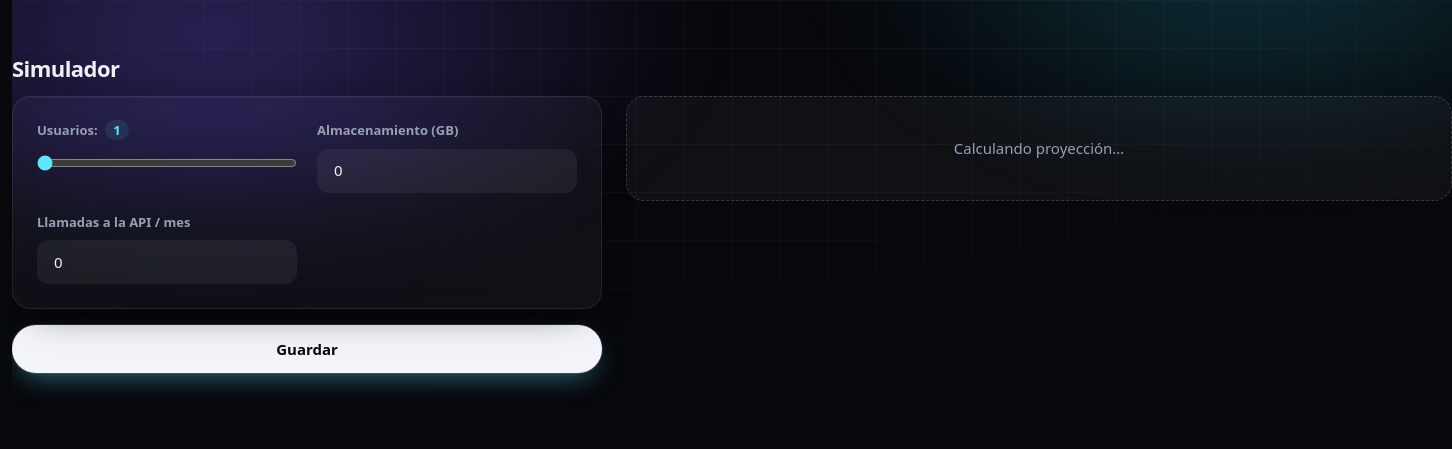
Test: Simulator: guardado › con un control no válido el botón está deshabilitado
Replace the text in the number field labelled "Almacenamiento (GB)" with "1.5": (447, 171) top-left (317, 149), bottom-right (577, 193)
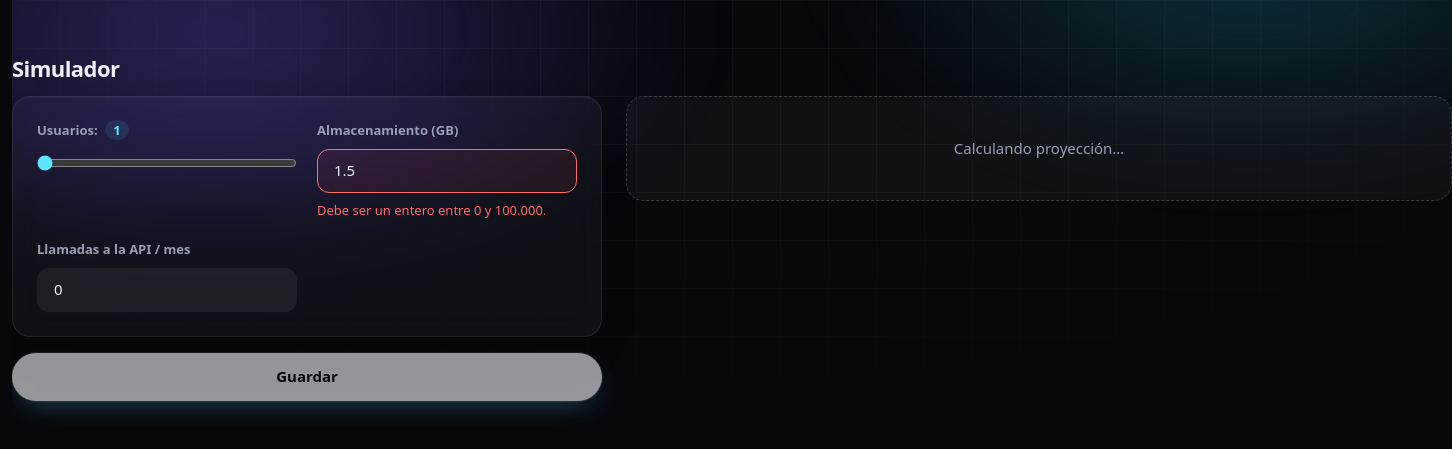
Expected: the button "Guardar" is disabled, top-left (12, 353), bottom-right (602, 401)
Replace the text in the number field labelled "Almacenamiento (GB)" with "10": (447, 171) top-left (317, 149), bottom-right (577, 193)
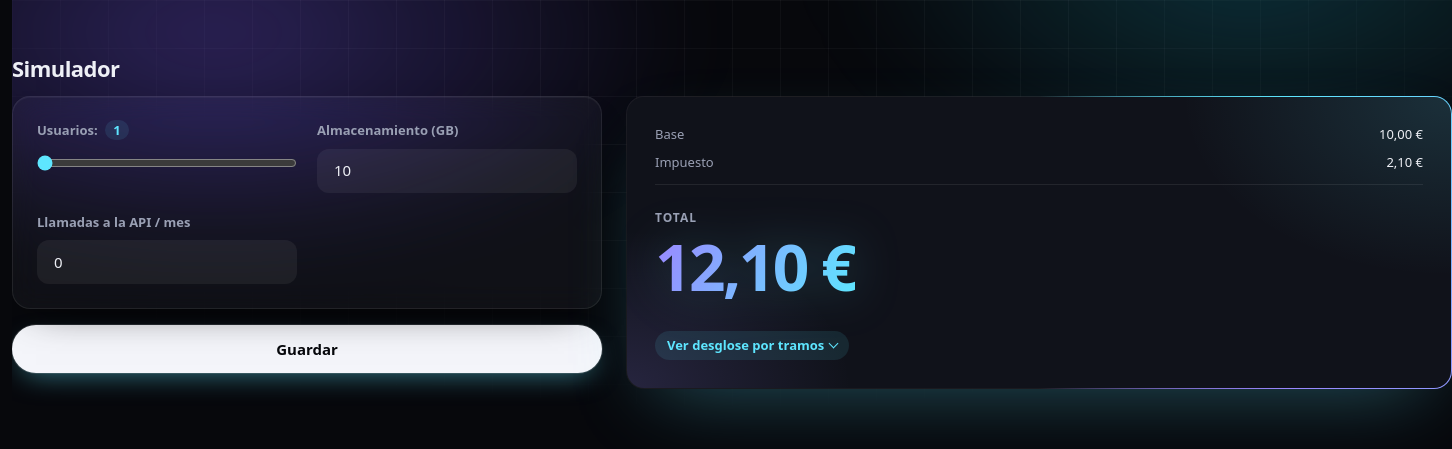
Expected: the button "Guardar" is enabled, top-left (12, 325), bottom-right (602, 373)
